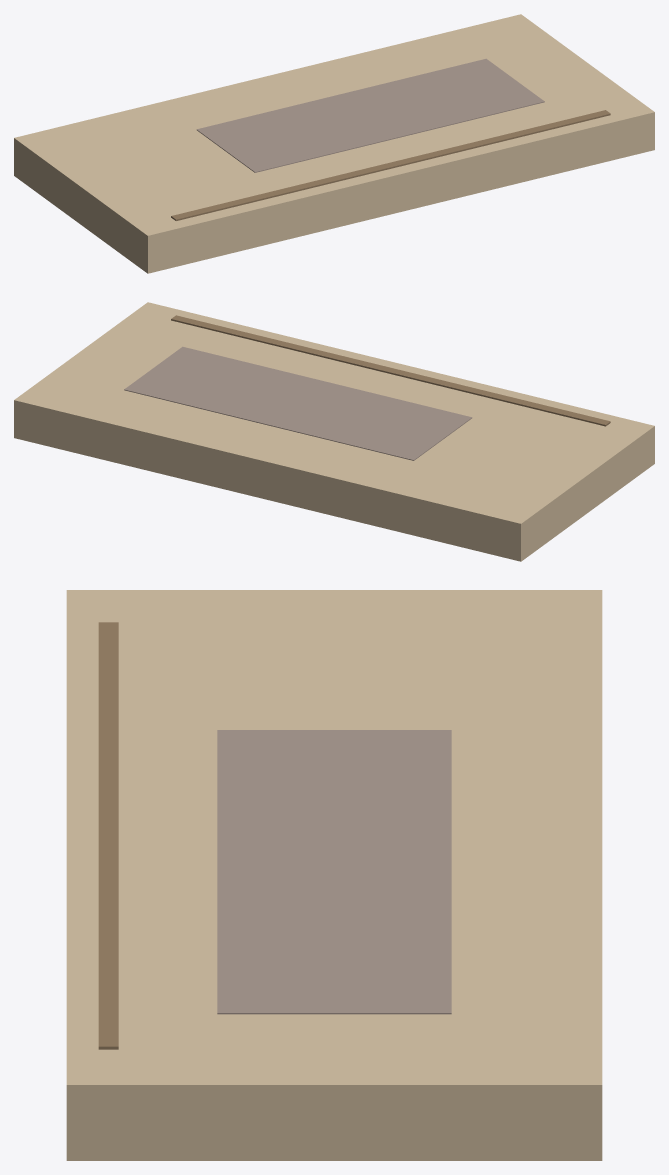
File: prop-fish-board-blank.fbx
3 views of the same model, one above another, from view 1: azimuth 30°, elevation 25°; view 2: azimuth 150°, elevation 25°; view 3: azimuth 270°, elevation 25° (orthographic). The views are drawn at different scales.
Parts seen in each view (by area): view 1: prop-fish-board-blank; view 2: prop-fish-board-blank; view 3: prop-fish-board-blank.
Part boxes in pixels (bbox=[...]): prop-fish-board-blank: bbox=[14, 14, 654, 273]; prop-fish-board-blank: bbox=[14, 302, 654, 561]; prop-fish-board-blank: bbox=[66, 590, 602, 1160].
Bounding box in the file's own units: 70 × 5.2 × 32.
